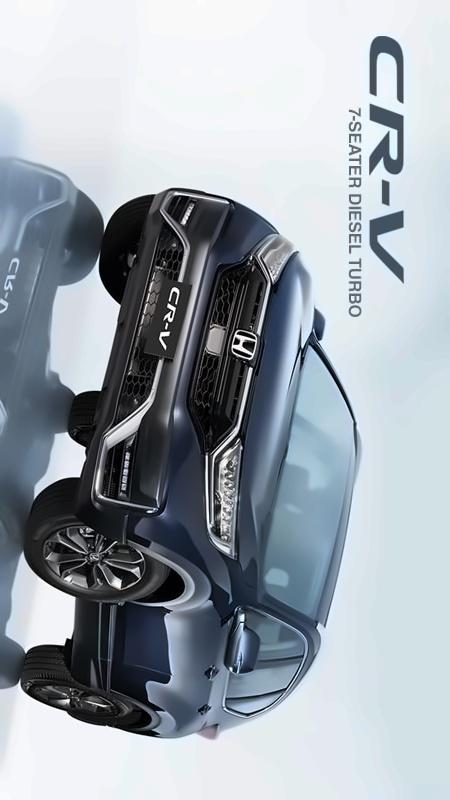Fender - -F-L-: (120, 517, 270, 607)
Fender - -R-L-: (144, 709, 212, 748)
Front bumper: (69, 178, 250, 550)
Headlight - -L-: (195, 425, 253, 567)
Headlight - -R-: (243, 224, 307, 296)
Passenger-s door - -F-L-: (80, 590, 322, 676)
Passenger-s door - -R-L-: (116, 675, 304, 716)
Rear bumper: (63, 704, 156, 750)
Rear light - -L-: (193, 715, 225, 747)
Side bumper - -L-: (71, 598, 116, 704)
Side mirror - -R-: (220, 603, 266, 684), (300, 290, 333, 347)
